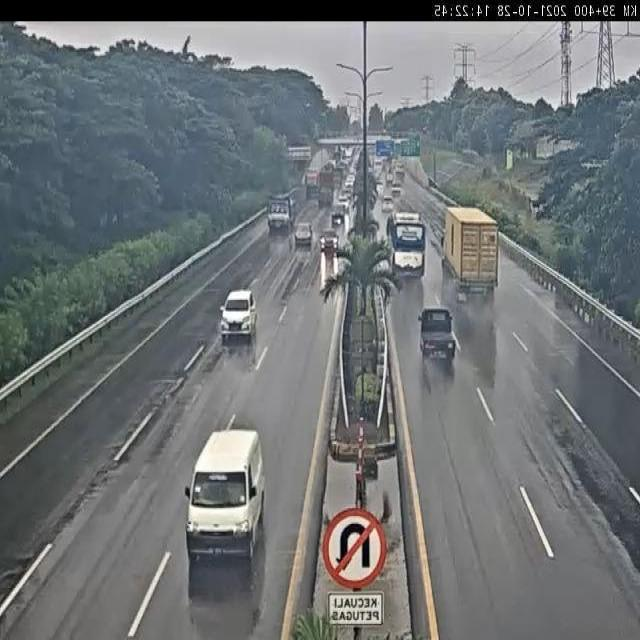Bus: (387, 211, 427, 279)
Car: (218, 289, 258, 337), (294, 220, 313, 246), (320, 228, 338, 252), (344, 173, 356, 190), (338, 191, 349, 207)
Truck: (443, 206, 499, 305), (418, 307, 456, 361), (266, 194, 294, 233), (317, 165, 336, 207), (305, 170, 320, 201), (391, 185, 401, 198)
Van: (185, 426, 265, 562)
